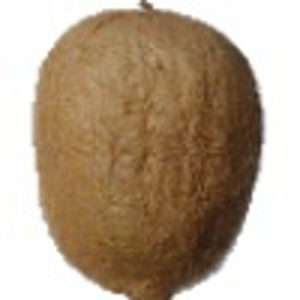kiwi: (31, 1, 264, 300)
